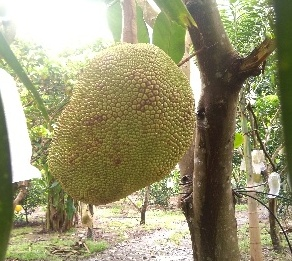Mit: (49, 42, 196, 206)
